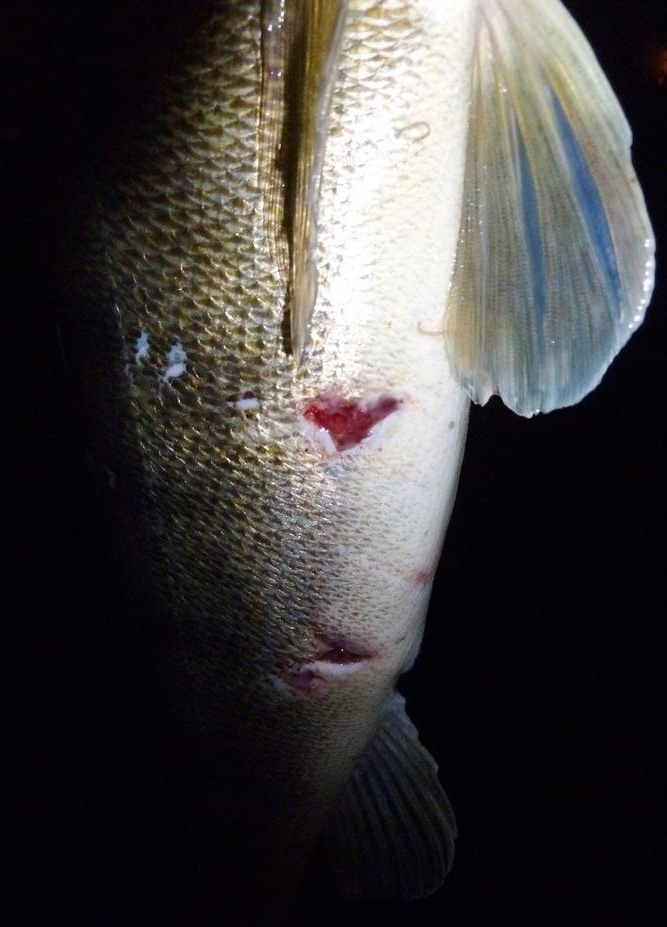Sander lucioperca: (20, 1, 657, 907)
